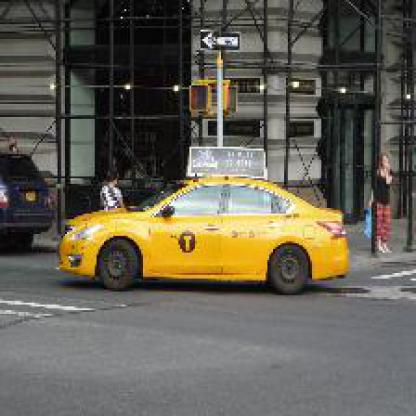not_emergency: (56, 178, 380, 314)
